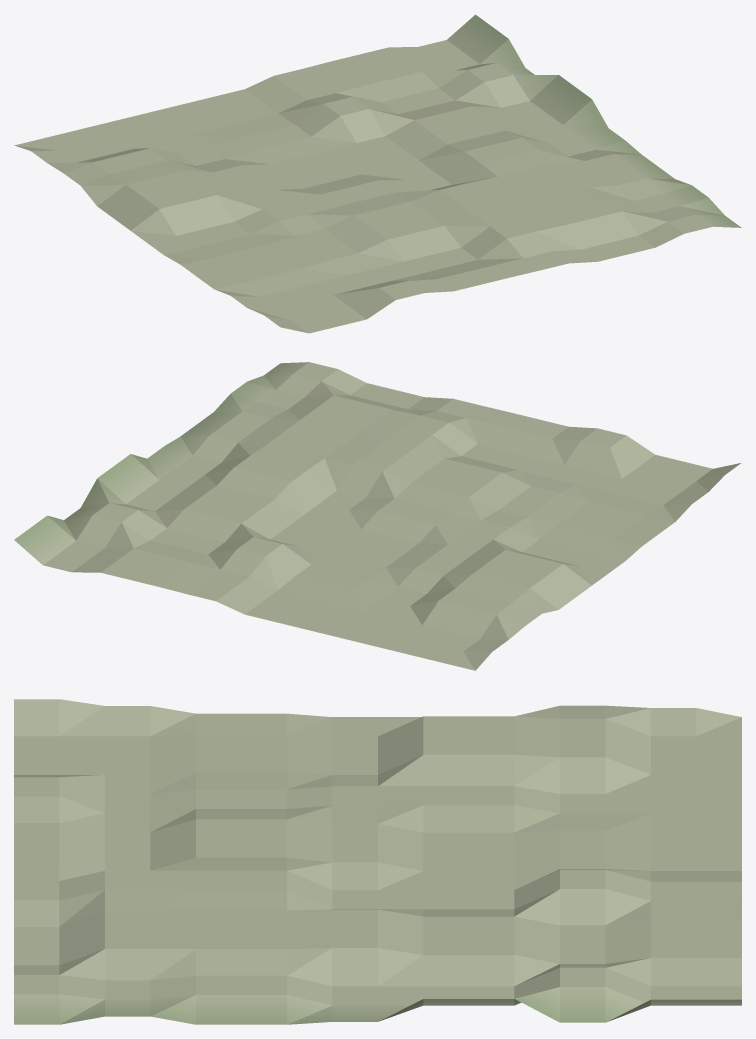
3 views of the same model, one above another, from view 1: azimuth 30°, elevation 25°; view 2: azimuth 150°, elevation 25°; view 3: azimuth 270°, elevation 25° (orthographic). The views are drawn at different scales.
Bounding box in the file's own units: 32 × 1.26 × 32.
